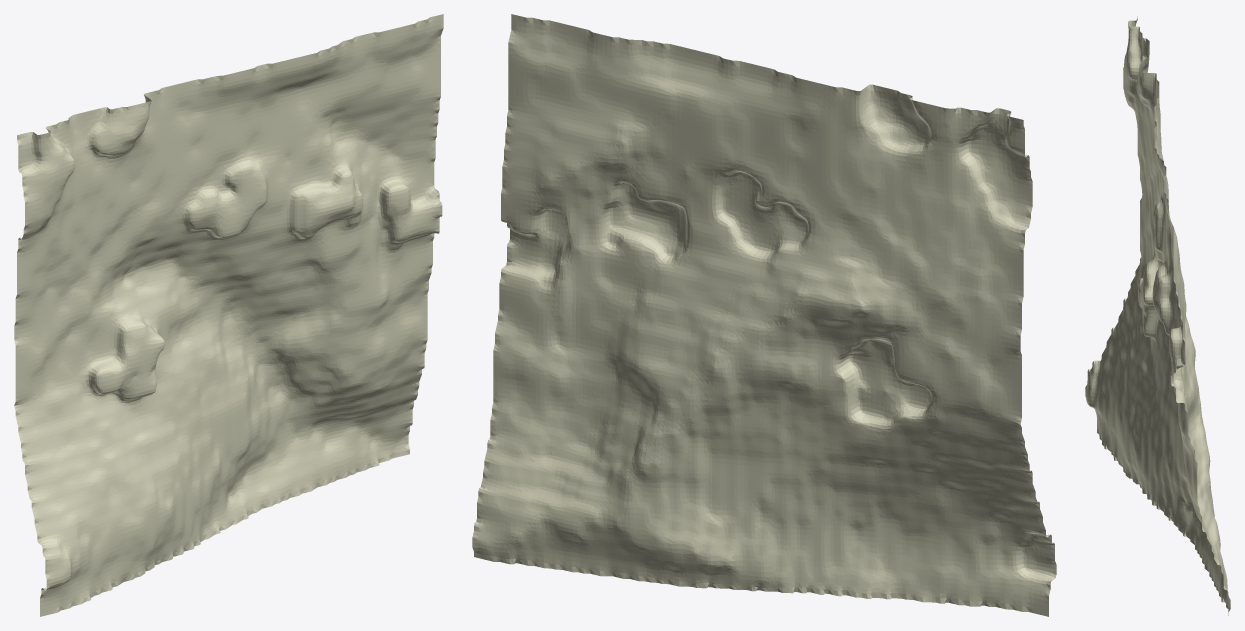
The model's file is 1294_StraightExtractWithTrees.gltf.
The picture shows the model from 3 angles, left to right: view 1: azimuth 30°, elevation 25°; view 2: azimuth 150°, elevation 25°; view 3: azimuth 270°, elevation 25°; orthographic projection. The views are drawn at different scales.
Visible parts, largest first — view 1: Renderer Node; view 2: Renderer Node; view 3: Renderer Node.
Part boxes in pixels (bbox=[...]): Renderer Node: bbox=[14, 14, 443, 616]; Renderer Node: bbox=[472, 14, 1056, 616]; Renderer Node: bbox=[1085, 16, 1230, 615].
Bounding box in the file's own units: 192 × 192 × 61.62.
